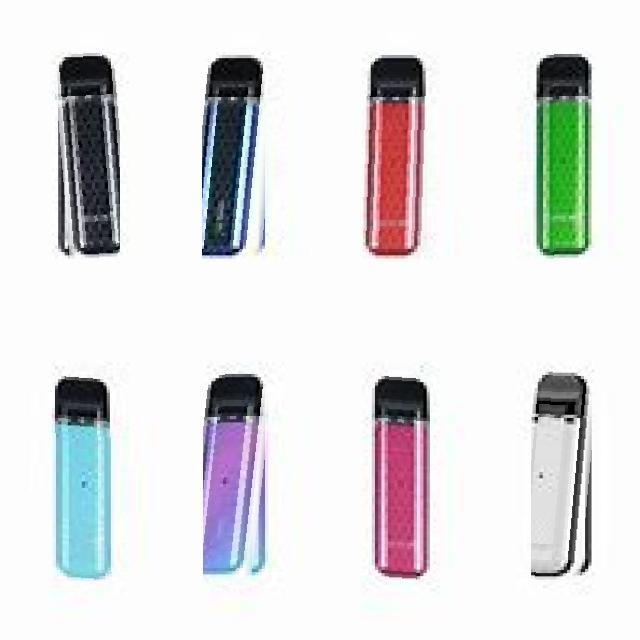Vapes: (202, 47, 281, 268), (45, 364, 120, 581), (363, 45, 436, 262), (203, 367, 275, 583), (368, 364, 437, 580), (531, 46, 599, 264), (531, 364, 599, 581), (53, 53, 120, 263)
